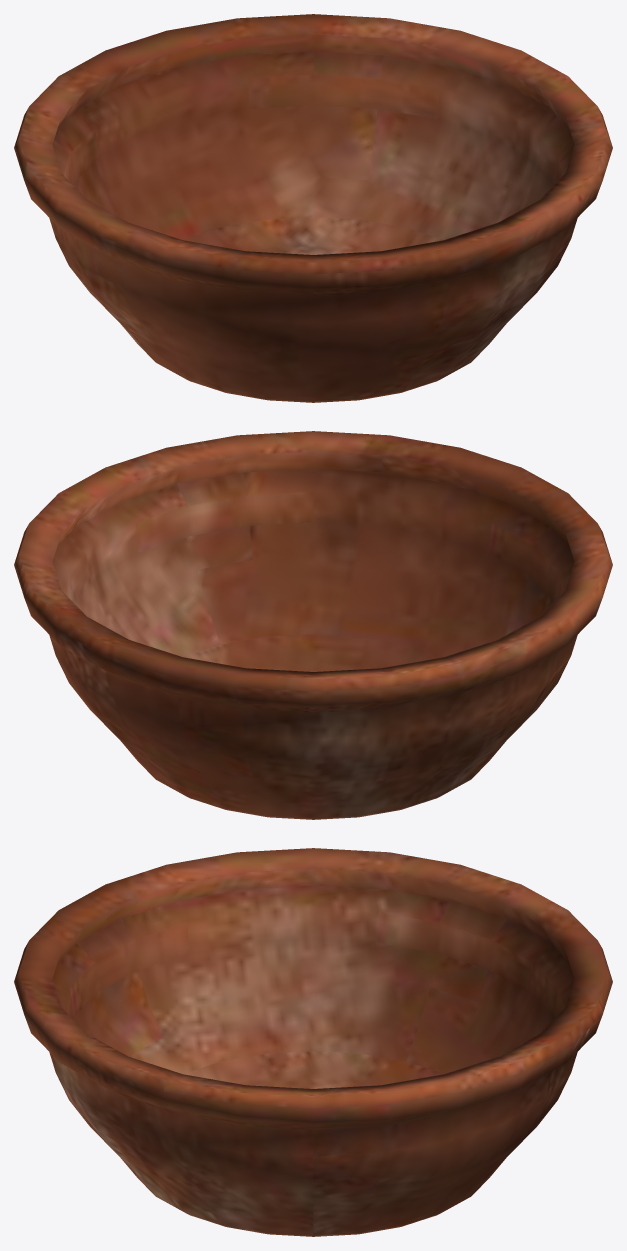
The model's file is pot_bowl_lod1_web.glb.
3 renders of one model, top to bottom at view 1: azimuth 30°, elevation 25°; view 2: azimuth 150°, elevation 25°; view 3: azimuth 270°, elevation 25°, orthographic.
Parts seen in each view (by area): view 1: PotBowl_Mesh; view 2: PotBowl_Mesh; view 3: PotBowl_Mesh.
Boxes of the visible parts, <box> form: PotBowl_Mesh: <box>14,14,612,402</box>; PotBowl_Mesh: <box>14,431,612,819</box>; PotBowl_Mesh: <box>14,848,612,1236</box>.
Bounding box in the file's own units: 0.342 × 0.12 × 0.342.
1 material, 1 textured.
